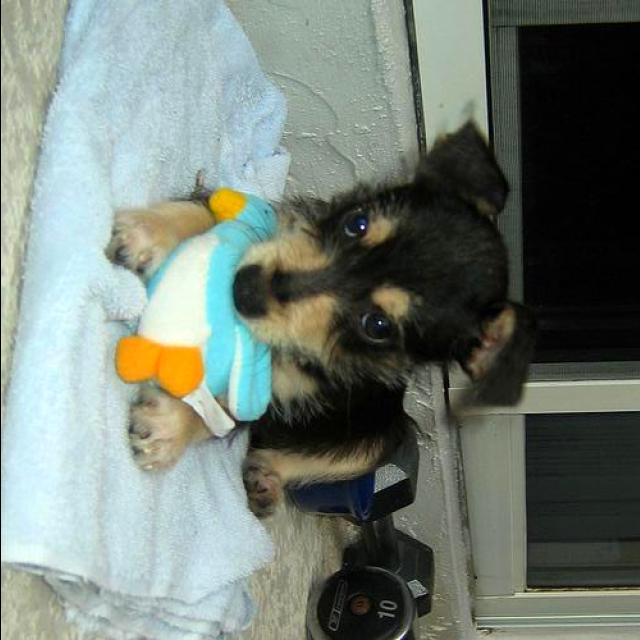toy_terrier: (105, 116, 530, 524)
